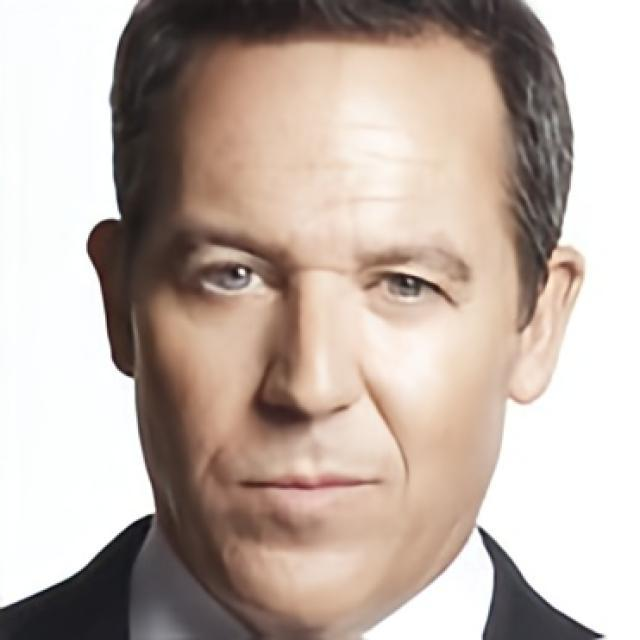content: (135, 31, 518, 624)
